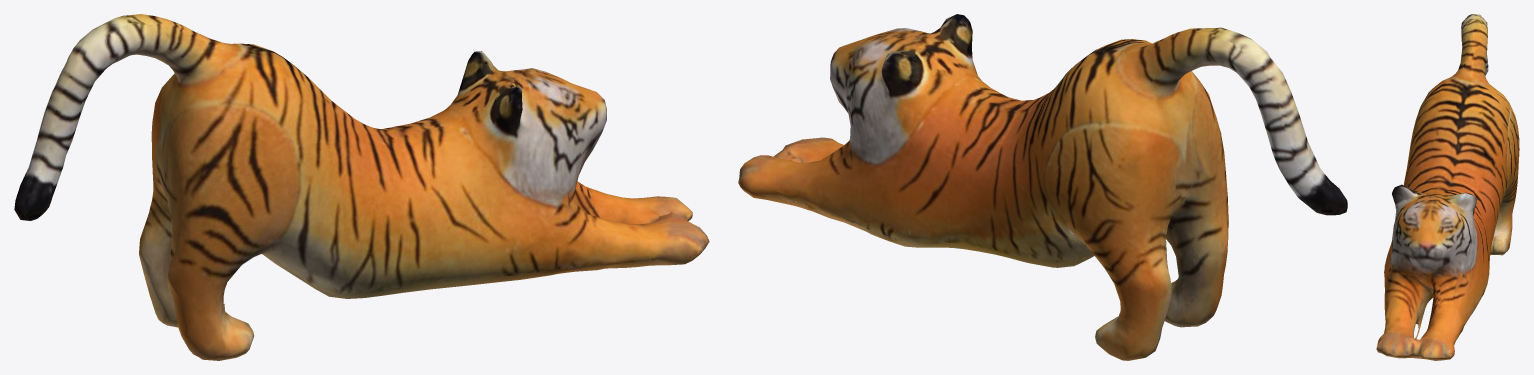
Rendered from stretching_tiger.dae.
3 renders of one model, left to right at view 1: azimuth 30°, elevation 25°; view 2: azimuth 150°, elevation 25°; view 3: azimuth 270°, elevation 25°, orthographic. The views are drawn at different scales.
Parts seen in each view (by area): view 1: stretchingti; view 2: stretchingti; view 3: stretchingti.
Boxes of the visible parts, box(x1,y1,x2,y2) form: stretchingti: box(14, 14, 709, 360); stretchingti: box(738, 14, 1347, 360); stretchingti: box(1376, 14, 1519, 360).
Size of the model in its own units: 86.45 by 43.67 by 26.98.
1 material, 1 textured.
